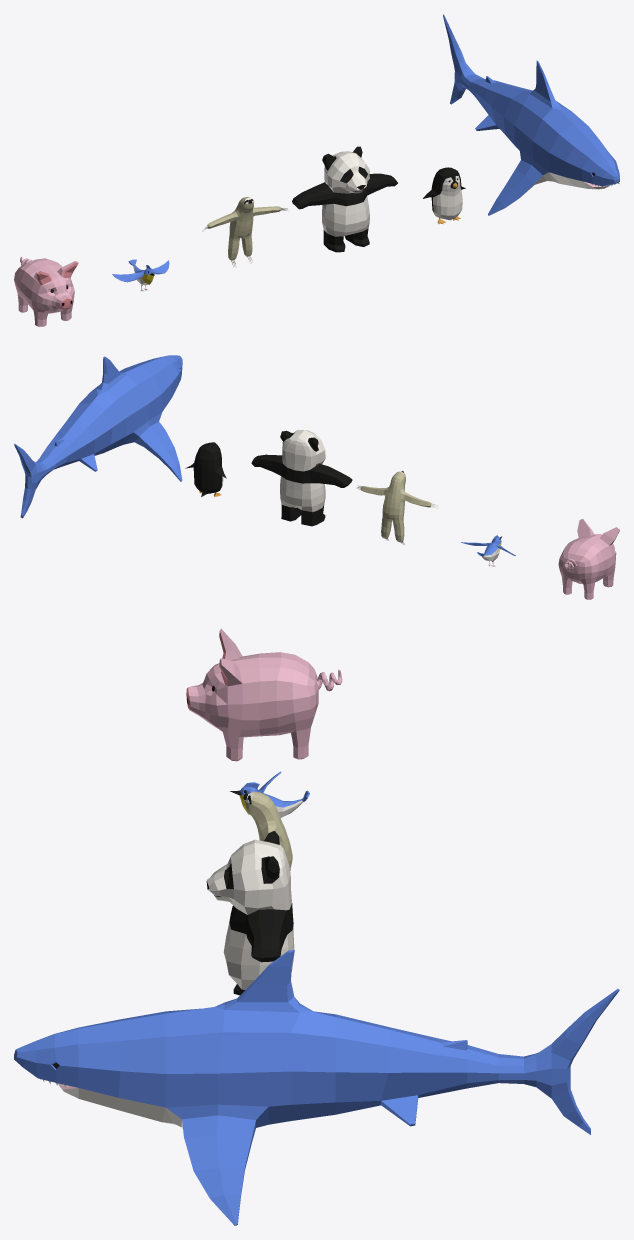
The model's file is OrigamisPack.fbx.
The picture shows the model from 3 angles, top to bottom: view 1: azimuth 30°, elevation 25°; view 2: azimuth 150°, elevation 25°; view 3: azimuth 270°, elevation 25°; orthographic projection. The views are drawn at different scales.
Visible parts, largest first — view 1: Cube.003, Plane, Cube, Cube.013, Cube.002, Cube.001; view 2: Cube.003, Plane, Cube, Cube.013, Cube.002, Cube.001; view 3: Cube.003, Cube, Plane, Cube.013, Cube.001.
Boxes of the visible parts, <box> form: Cube.003: <box>443,14,619,215</box>; Plane: <box>292,146,397,252</box>; Cube: <box>14,256,78,326</box>; Cube.013: <box>207,197,280,260</box>; Cube.002: <box>423,167,465,224</box>; Cube.001: <box>112,259,169,291</box>; Cube.003: <box>14,355,182,518</box>; Plane: <box>251,430,352,526</box>; Cube: <box>558,519,619,599</box>; Cube.013: <box>360,471,431,542</box>; Cube.002: <box>185,442,226,496</box>; Cube.001: <box>461,535,515,566</box>; Cube.003: <box>14,950,619,1225</box>; Cube: <box>186,628,342,761</box>; Plane: <box>206,831,294,995</box>; Cube.013: <box>243,791,292,870</box>; Cube.001: <box>230,771,309,817</box>.
Size of the model in its own units: 2934 by 610 by 1512.
